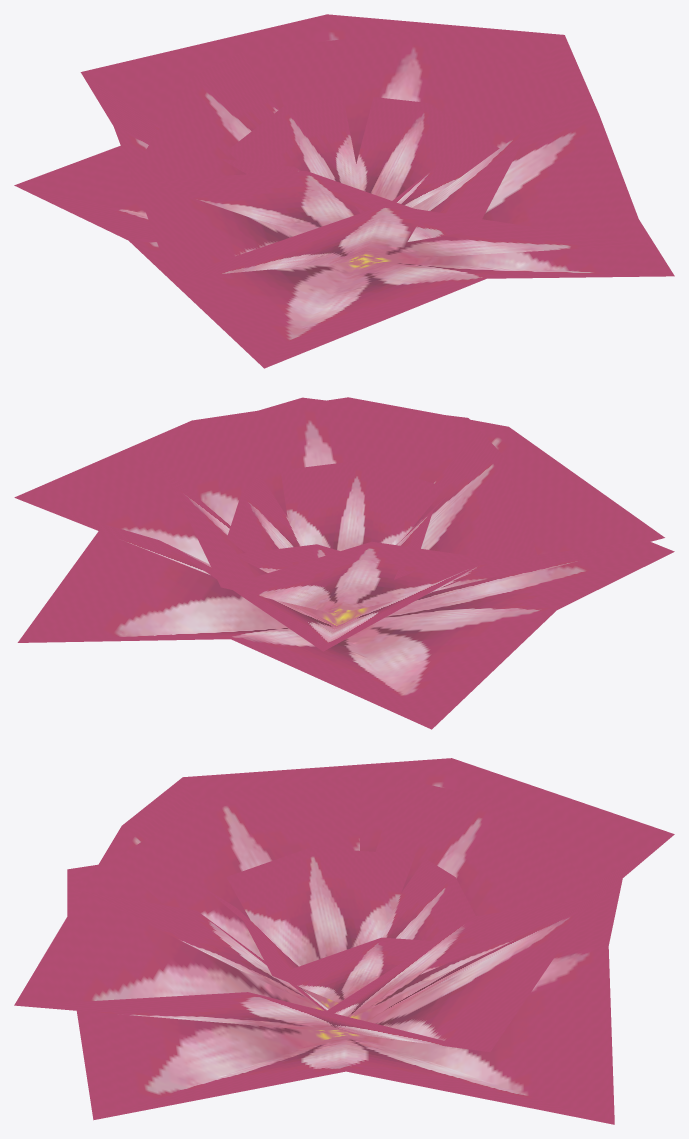
The model's file is c_pondflower.static.glb.
3 renders of one model, top to bottom at view 1: azimuth 30°, elevation 25°; view 2: azimuth 150°, elevation 25°; view 3: azimuth 270°, elevation 25°, orthographic. The views are drawn at different scales.
Visible parts, largest first — view 1: C_pondflower; view 2: C_pondflower; view 3: C_pondflower.
Boxes of the visible parts, x1,y1,x2,y2 form: C_pondflower: [14, 14, 674, 368]; C_pondflower: [14, 397, 674, 729]; C_pondflower: [14, 758, 674, 1124].
Bounding box in the file's own units: 1.67 × 0.4802 × 1.61.
1 material, 1 textured.
